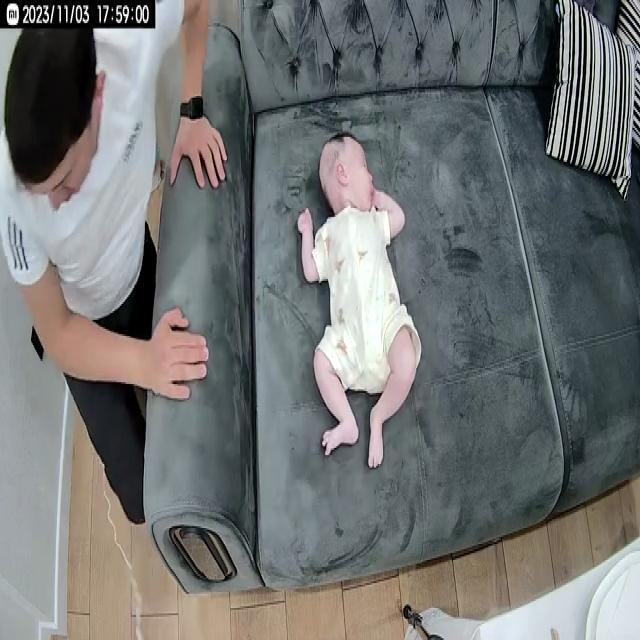baby: (295, 130, 423, 468)
